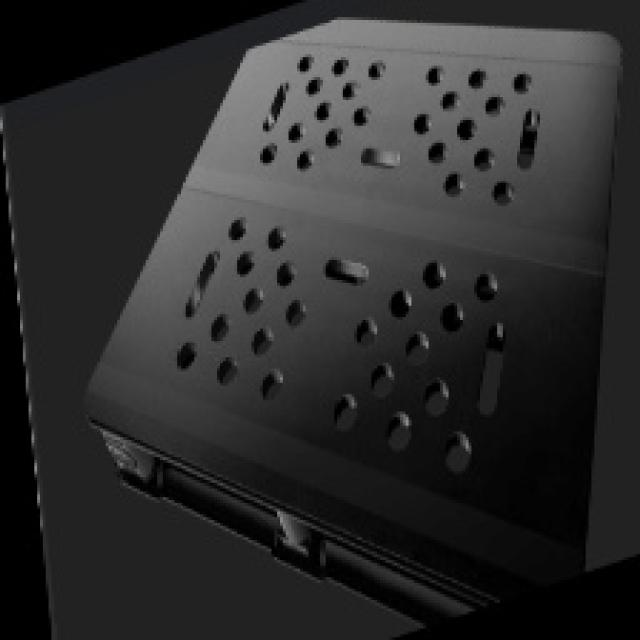igps: (76, 10, 630, 640)
